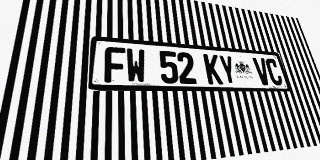2: (176, 52, 197, 84)
5: (159, 50, 179, 84)
C: (264, 58, 284, 85)
F: (104, 46, 126, 83)
K: (203, 54, 223, 84)
V: (252, 57, 272, 85)
W: (126, 48, 147, 83)
Y: (218, 55, 238, 85)
